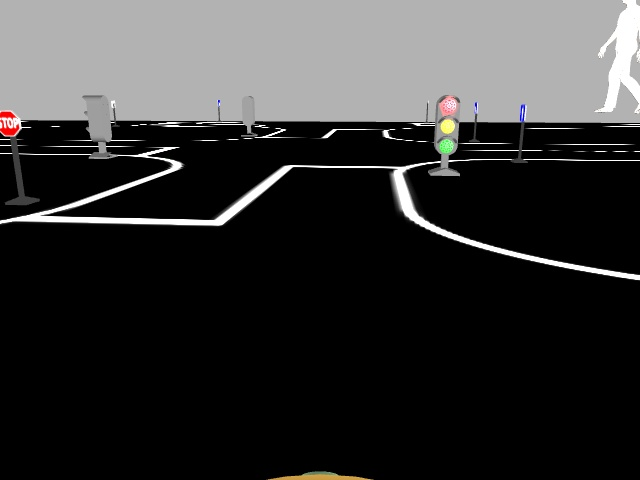Stop: (0, 105, 20, 139)
TrafficLight: (434, 92, 459, 154)
